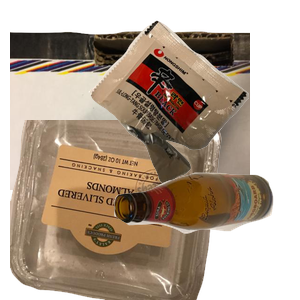cardboard: (10, 29, 250, 209)
glass: (111, 170, 300, 300)
plastic: (10, 120, 227, 300)
trash: (86, 18, 300, 194)
